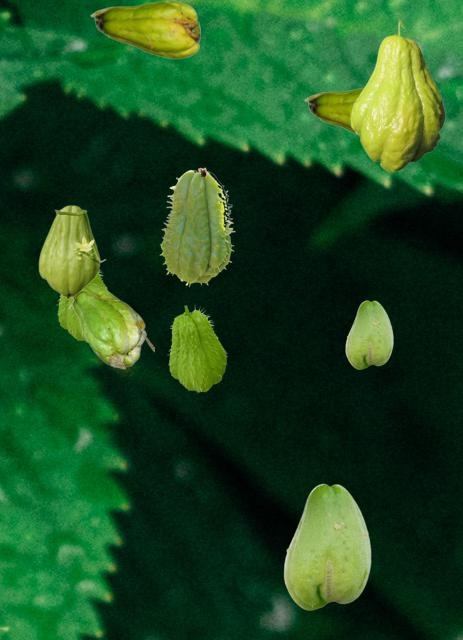sayote: (350, 20, 444, 171), (283, 483, 370, 609), (159, 167, 234, 286), (68, 283, 153, 368), (90, 0, 199, 58), (38, 205, 105, 298), (167, 304, 227, 391), (56, 269, 107, 341), (345, 300, 392, 368), (304, 87, 363, 135)
